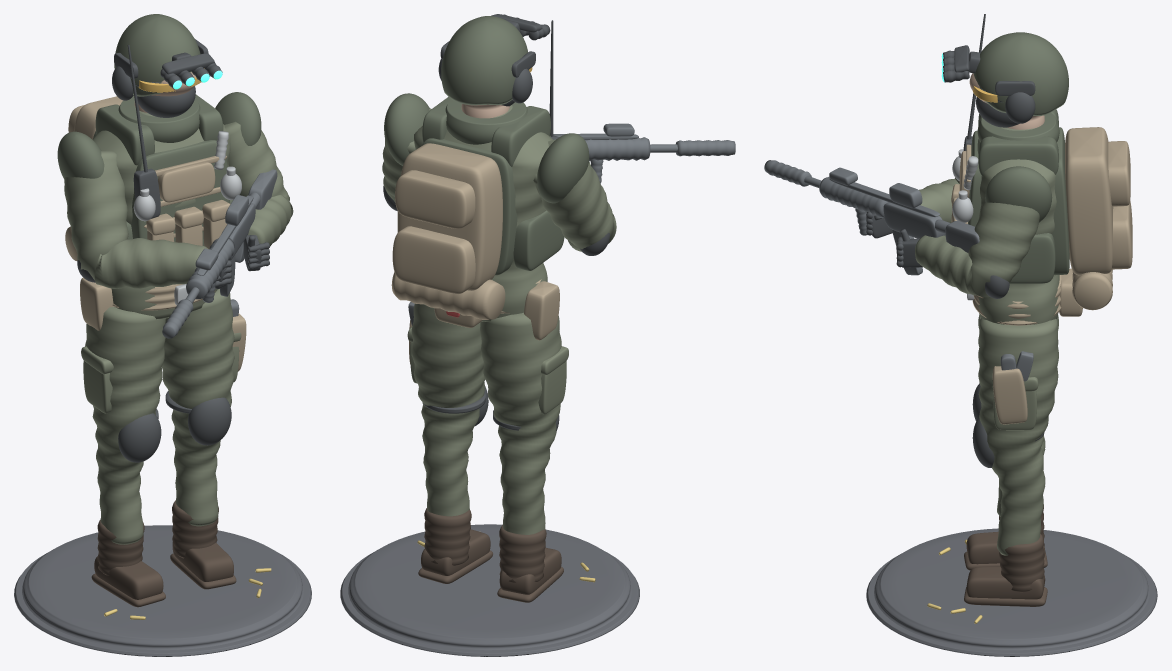
File: soldado_tatico_detalhado.glb
3 views of the same model, side by side, from view 1: azimuth 30°, elevation 25°; view 2: azimuth 150°, elevation 25°; view 3: azimuth 270°, elevation 25° (orthographic). The views are drawn at different scales.
Visible parts, largest first — view 1: Uniform_BDU_Suit, Display_Tactical_Pedestal, Ballistic_Armor_And_Helmet, Tactical_Polymer_Hardware, Tactical_Coyote_Loadout, Combat_Tactical_Boots, SOPMOD_Assault_Rifle_And_Sidearm, Tactical_Steel_Ordnance_Details; view 2: Uniform_BDU_Suit, Display_Tactical_Pedestal, Ballistic_Armor_And_Helmet, Tactical_Coyote_Loadout, Combat_Tactical_Boots, Tactical_Polymer_Hardware, SOPMOD_Assault_Rifle_And_Sidearm; view 3: Display_Tactical_Pedestal, Uniform_BDU_Suit, Ballistic_Armor_And_Helmet, Tactical_Coyote_Loadout, SOPMOD_Assault_Rifle_And_Sidearm, Tactical_Polymer_Hardware, Combat_Tactical_Boots, Tactical_Steel_Ordnance_Details.
Boxes of the visible parts, x1,y1,x2,y2 form: Uniform_BDU_Suit: (64, 104, 293, 544); Display_Tactical_Pedestal: (14, 525, 311, 656); Ballistic_Armor_And_Helmet: (57, 14, 261, 246); Tactical_Polymer_Hardware: (77, 38, 269, 462); Tactical_Coyote_Loadout: (65, 96, 246, 371); Combat_Tactical_Boots: (91, 500, 236, 607); SOPMOD_Assault_Rifle_And_Sidearm: (162, 169, 277, 338); Tactical_Steel_Ordnance_Details: (133, 131, 241, 305); Uniform_BDU_Suit: (382, 105, 616, 534); Display_Tactical_Pedestal: (340, 524, 639, 656); Ballistic_Armor_And_Helmet: (384, 16, 589, 275); Tactical_Coyote_Loadout: (391, 143, 559, 364); Combat_Tactical_Boots: (418, 508, 563, 602); Tactical_Polymer_Hardware: (383, 14, 610, 431); SOPMOD_Assault_Rifle_And_Sidearm: (408, 123, 735, 325); Display_Tactical_Pedestal: (866, 528, 1157, 656); Uniform_BDU_Suit: (915, 127, 1059, 555); Ballistic_Armor_And_Helmet: (968, 32, 1069, 283); Tactical_Coyote_Loadout: (951, 127, 1132, 424); SOPMOD_Assault_Rifle_And_Sidearm: (764, 160, 1033, 381); Tactical_Polymer_Hardware: (866, 14, 1044, 467); Combat_Tactical_Boots: (964, 504, 1047, 606); Tactical_Steel_Ordnance_Details: (952, 149, 978, 300).
Size of the model in its own units: 0.8667 by 1.84 by 1.17.
